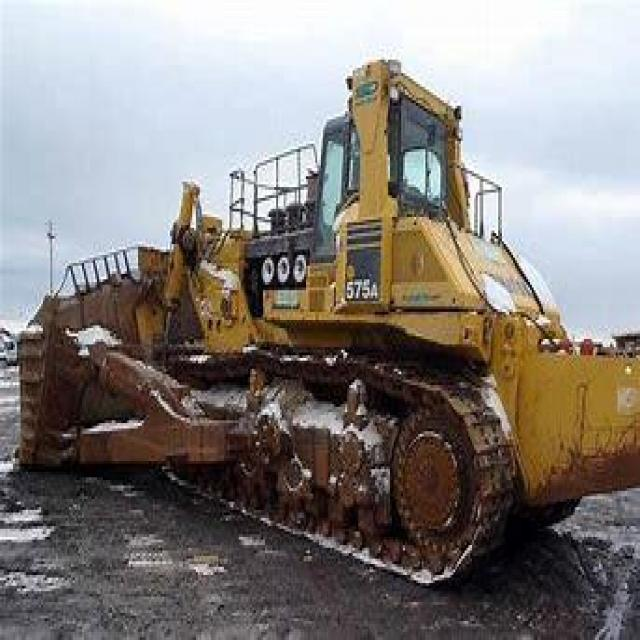Bulldozer: (13, 38, 638, 588)
